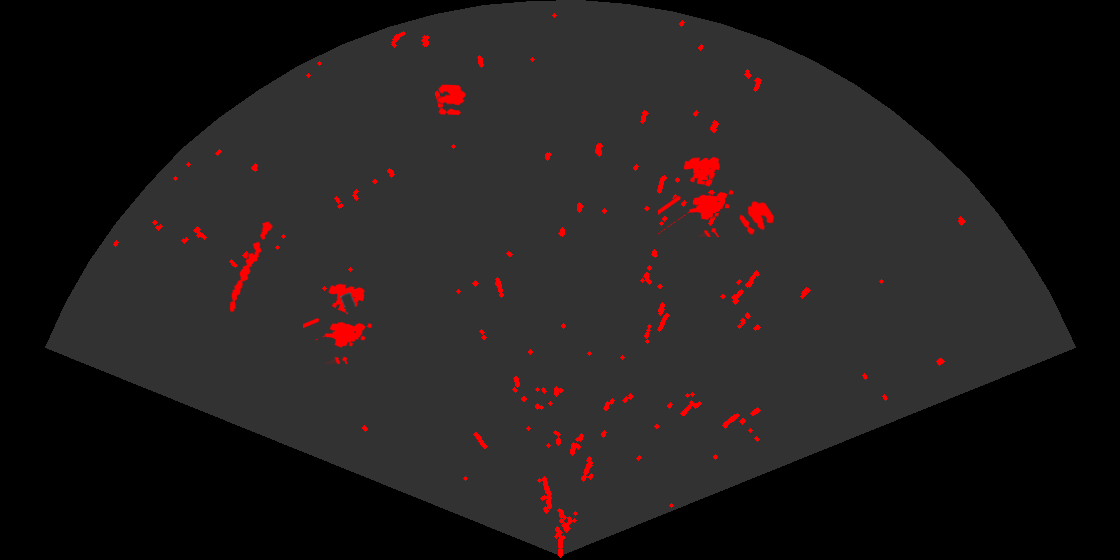ball: (738, 200, 776, 236), (435, 83, 467, 117)
cage: (658, 155, 735, 237), (303, 282, 374, 364)
chain: (228, 220, 274, 314)
